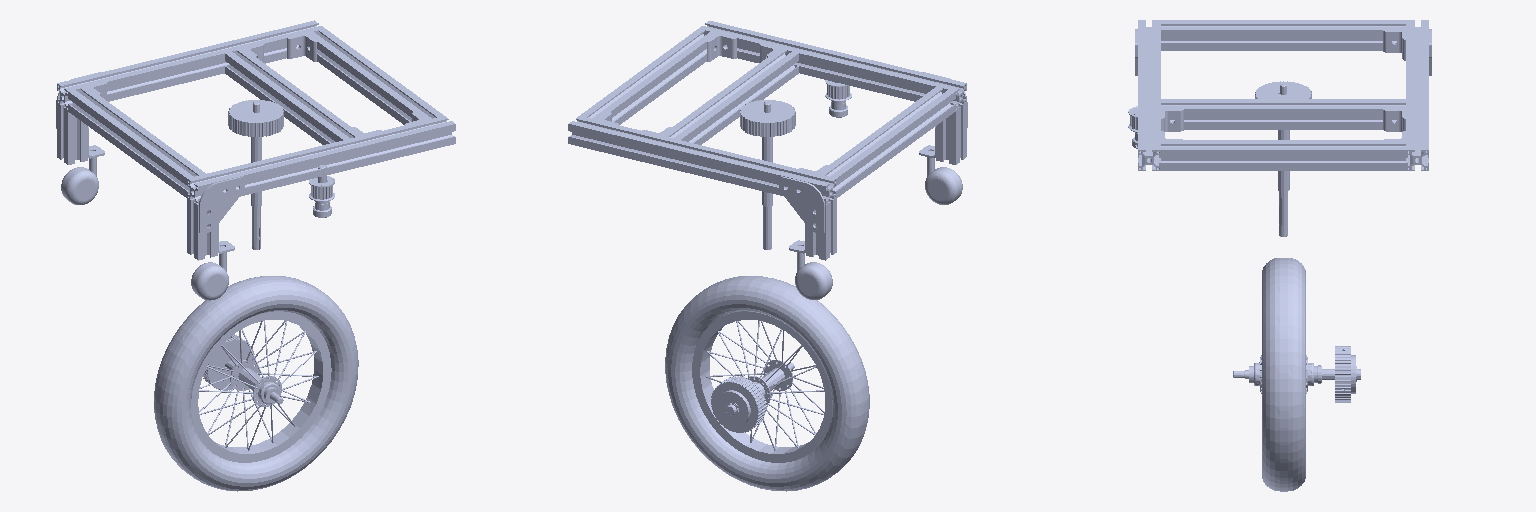
robot.urdf — ROS_Module_Assembly_v7:
<?xml version="1.0" encoding="utf-8"?>
<!-- This URDF was automatically created by SolidWorks to URDF Exporter! Originally created by [author] ([email redacted]) 
     Commit Version: 1.6.0-4-g7f85cfe  Build Version: 1.6.7995.38578
     For more information, please see http://wiki.ros.org/sw_urdf_exporter -->
<robot
  name="ROS_Module_Assembly_v7">
  <link
    name="base_link">
    <inertial>
      <origin
        xyz="0.031724 -0.12886 -0.039095"
        rpy="0 0 0" />
      <mass
        value="2.1961" />
      <inertia
        ixx="0.0063697"
        ixy="3.3879E-05"
        ixz="-1.3091E-07"
        iyy="0.0035478"
        iyz="-1.1651E-06"
        izz="0.009033" />
    </inertial>
    <visual>
      <origin
        xyz="0 0 0"
        rpy="0 0 0" />
      <geometry>
        <mesh
          filename="package://ROS_Module_Assembly_v7/meshes/base_link.STL" />
      </geometry>
      <material
        name="">
        <color
          rgba="0.79216 0.81961 0.93333 1" />
      </material>
    </visual>
    <collision>
      <origin
        xyz="0 0 0"
        rpy="0 0 0" />
      <geometry>
        <mesh
          filename="package://ROS_Module_Assembly_v7/meshes/base_link.STL" />
      </geometry>
    </collision>
  </link>
  <link
    name="input_rot_motor">
    <inertial>
      <origin
        xyz="-4.2772E-05 0.032009 7.4354E-05"
        rpy="0 0 0" />
      <mass
        value="0.025091" />
      <inertia
        ixx="7.1785E-06"
        ixy="6.7784E-10"
        ixz="-1.1692E-08"
        iyy="2.3424E-06"
        iyz="-1.1777E-09"
        izz="7.1921E-06" />
    </inertial>
    <visual>
      <origin
        xyz="0 0 0"
        rpy="0 0 0" />
      <geometry>
        <mesh
          filename="package://ROS_Module_Assembly_v7/meshes/input_rot_motor.STL" />
      </geometry>
      <material
        name="">
        <color
          rgba="0.79216 0.81961 0.93333 1" />
      </material>
    </visual>
    <collision>
      <origin
        xyz="0 0 0"
        rpy="0 0 0" />
      <geometry>
        <mesh
          filename="package://ROS_Module_Assembly_v7/meshes/input_rot_motor.STL" />
      </geometry>
    </collision>
  </link>
  <joint
    name="base_to_input_rot_motor"
    type="continuous">
    <origin
      xyz="-0.00425 -0.18427 -0.009"
      rpy="1.5708 0 -1.5708" />
    <parent
      link="base_link" />
    <child
      link="input_rot_motor" />
    <axis
      xyz="0 1 0" />
  </joint>
  <link
    name="input_transl_motor">
    <inertial>
      <origin
        xyz="-1.865E-05 0.047153 -6.6546E-05"
        rpy="0 0 0" />
      <mass
        value="0.032255" />
      <inertia
        ixx="1.5951E-05"
        ixy="1.8513E-09"
        ixz="3.575E-09"
        iyy="2.7304E-06"
        iyz="6.6055E-09"
        izz="1.5963E-05" />
    </inertial>
    <visual>
      <origin
        xyz="0 0 0"
        rpy="0 0 0" />
      <geometry>
        <mesh
          filename="package://ROS_Module_Assembly_v7/meshes/input_transl_motor.STL" />
      </geometry>
      <material
        name="">
        <color
          rgba="0.79216 0.81961 0.93333 1" />
      </material>
    </visual>
    <collision>
      <origin
        xyz="0 0 0"
        rpy="0 0 0" />
      <geometry>
        <mesh
          filename="package://ROS_Module_Assembly_v7/meshes/input_transl_motor.STL" />
      </geometry>
    </collision>
  </link>
  <joint
    name="base_to_transl_input"
    type="continuous">
    <origin
      xyz="0.07615 -0.16897 -0.008"
      rpy="1.5708 0 -1.8542" />
    <parent
      link="base_link" />
    <child
      link="input_transl_motor" />
    <axis
      xyz="0 1 0" />
  </joint>
  <link
    name="fork">
    <inertial>
      <origin
        xyz="9.71972270756294E-05 0.0198553943634375 -0.176442224634371"
        rpy="0 0 0" />
      <mass
        value="2.19393880104194" />
      <inertia
        ixx="0.00906173079445319"
        ixy="-1.54635659139062E-08"
        ixz="4.26201865444728E-06"
        iyy="0.0114899357916851"
        iyz="2.93350054751845E-05"
        izz="0.00390974131459931" />
    </inertial>
    <visual>
      <origin
        xyz="0 0 0"
        rpy="0 0 0" />
      <geometry>
        <mesh
          filename="package://ROS_Module_Assembly_v7/meshes/fork.STL" />
      </geometry>
      <material
        name="">
        <color
          rgba="0.792156862745098 0.819607843137255 0.933333333333333 1" />
      </material>
    </visual>
    <collision>
      <origin
        xyz="0 0 0"
        rpy="0 0 0" />
      <geometry>
        <mesh
          filename="package://ROS_Module_Assembly_v7/meshes/fork.STL" />
      </geometry>
    </collision>
  </link>
  <joint
    name="base_to_rot_fork"
    type="continuous">
    <origin
      xyz="0 0 0"
      rpy="0 0 0" />
    <parent
      link="base_link" />
    <child
      link="fork" />
    <axis
      xyz="0 0 1" />
  </joint>
  <link
    name="wheel">
    <inertial>
      <origin
        xyz="-0.045512 3.8611E-06 3.1642E-06"
        rpy="0 0 0" />
      <mass
        value="2.0757" />
      <inertia
        ixx="0.0323"
        ixy="-1.5988E-09"
        ixz="9.5857E-08"
        iyy="0.016615"
        iyz="-5.3114E-09"
        izz="0.016615" />
    </inertial>
    <visual>
      <origin
        xyz="0 0 0"
        rpy="0 0 0" />
      <geometry>
        <mesh
          filename="package://ROS_Module_Assembly_v7/meshes/wheel.STL" />
      </geometry>
      <material
        name="">
        <color
          rgba="0.79216 0.81961 0.93333 1" />
      </material>
    </visual>
    <collision>
      <origin
        xyz="0 0 0"
        rpy="0 0 0" />
      <geometry>
        <mesh
          filename="package://ROS_Module_Assembly_v7/meshes/wheel.STL" />
      </geometry>
    </collision>
  </link>
  <joint
    name="fork_to_wheel"
    type="continuous">
    <origin
      xyz="0 0.049968 -0.336"
      rpy="-1.6031 0 1.5708" />
    <parent
      link="fork" />
    <child
      link="wheel" />
    <axis
      xyz="1 0 0" />
  </joint>
  <link
    name="vert_bevel_shaft">
    <inertial>
      <origin
        xyz="-4.11906576242016E-06 0.170664525496025 -2.07212903265419E-05"
        rpy="0 0 0" />
      <mass
        value="0.119268839432703" />
      <inertia
        ixx="0.000123219155791243"
        ixy="-9.10291133470512E-09"
        ixz="2.32362997039993E-09"
        iyy="6.17307007401612E-05"
        iyz="-4.57855855631892E-08"
        izz="0.000123230383261293" />
    </inertial>
    <visual>
      <origin
        xyz="0 0 0"
        rpy="0 0 0" />
      <geometry>
        <mesh
          filename="package://ROS_Module_Assembly_v7/meshes/vert_bevel_shaft.STL" />
      </geometry>
      <material
        name="">
        <color
          rgba="0.792156862745098 0.819607843137255 0.933333333333333 1" />
      </material>
    </visual>
    <collision>
      <origin
        xyz="0 0 0"
        rpy="0 0 0" />
      <geometry>
        <mesh
          filename="package://ROS_Module_Assembly_v7/meshes/vert_bevel_shaft.STL" />
      </geometry>
    </collision>
  </link>
  <joint
    name="base_to_rot_bevel_shaft"
    type="continuous">
    <origin
      xyz="0 0 -0.1357"
      rpy="1.5708 0 -0.1391" />
    <parent
      link="base_link" />
    <child
      link="vert_bevel_shaft" />
    <axis
      xyz="0 1 0" />
  </joint>
</robot>

--- What the picture shows (computed from the rendered views, not written in the file) ---
3 views of the same robot in one strip: view 1: azimuth 30°, elevation 25°; view 2: azimuth 150°, elevation 25°; view 3: azimuth 270°, elevation 25° (orthographic).
Model ROS_Module_Assembly_v7 with 6 links and 5 joints (5 continuous), rooted at base_link, posed all joints at 0.
Visible links, largest first — view 1: base_link, wheel, vert_bevel_shaft, input_rot_motor; view 2: base_link, wheel, vert_bevel_shaft, input_rot_motor; view 3: base_link, wheel, vert_bevel_shaft.
Boxes of the visible links, x1,y1,x2,y2 form: base_link: [56, 20, 455, 300]; wheel: [154, 276, 358, 491]; vert_bevel_shaft: [228, 100, 283, 249]; input_rot_motor: [309, 165, 334, 217]; base_link: [568, 21, 967, 299]; wheel: [665, 276, 869, 491]; vert_bevel_shaft: [740, 100, 795, 249]; input_rot_motor: [825, 80, 851, 117]; base_link: [1135, 20, 1431, 170]; wheel: [1233, 258, 1360, 491]; vert_bevel_shaft: [1255, 81, 1311, 236].
Bounding box of the posed robot: 0.4 × 0.3953 × 0.5698 m (x, y, z).
Meshes: 6 distinct files referenced, 4 mesh visuals loaded (4 binary STL); not drawn: 2 (reference not matched to a file when rendering).